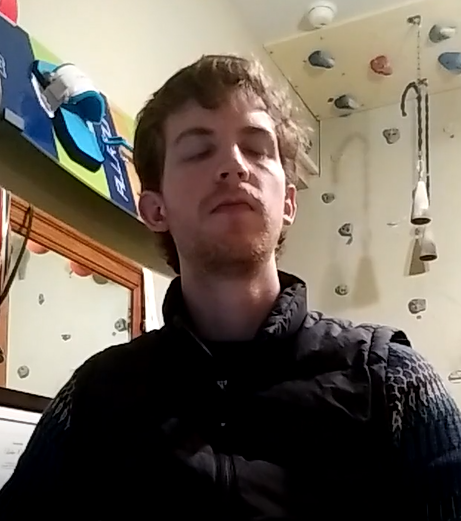Sleeping: (168, 124, 281, 173)
